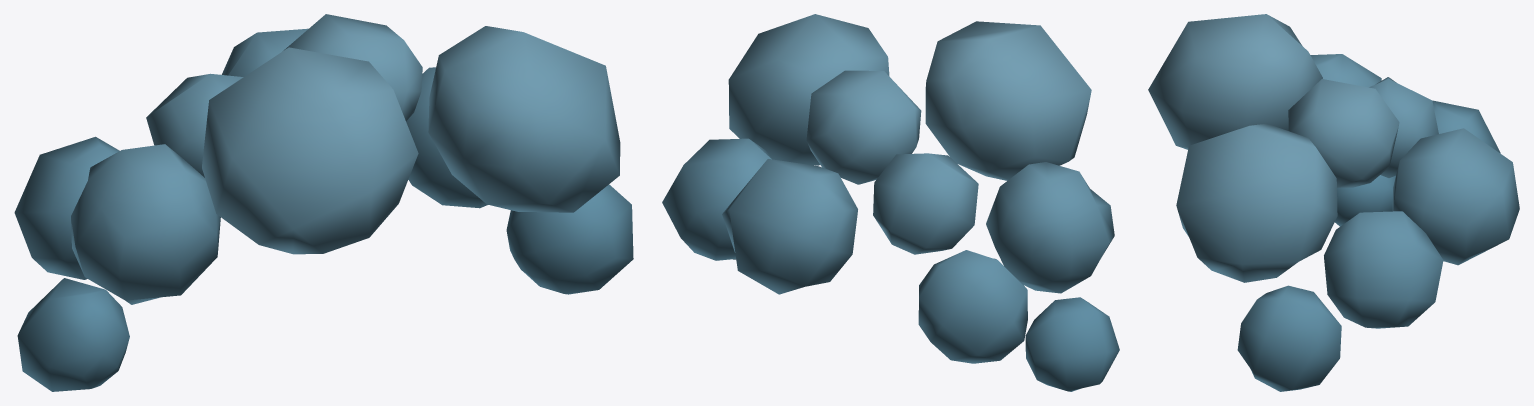
The model's file is potato_hair1.fbx.
The picture shows the model from 3 angles, left to right: view 1: azimuth 30°, elevation 25°; view 2: azimuth 150°, elevation 25°; view 3: azimuth 270°, elevation 25°; orthographic projection. The views are drawn at different scales.
Parts seen in each view (by area): view 1: berry6_berry5; view 2: berry6_berry5; view 3: berry6_berry5.
Part boxes in pixels (x1,y1,x2,y2): berry6_berry5: (14, 14, 633, 391); berry6_berry5: (662, 14, 1119, 391); berry6_berry5: (1148, 14, 1519, 391).
Size of the model in its own units: 2.19 by 1.3 by 1.59.
